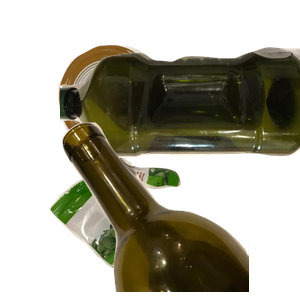glass: (60, 120, 300, 300)
metal: (56, 43, 211, 187)
plastic: (60, 44, 300, 195)
trash: (47, 146, 220, 300)
